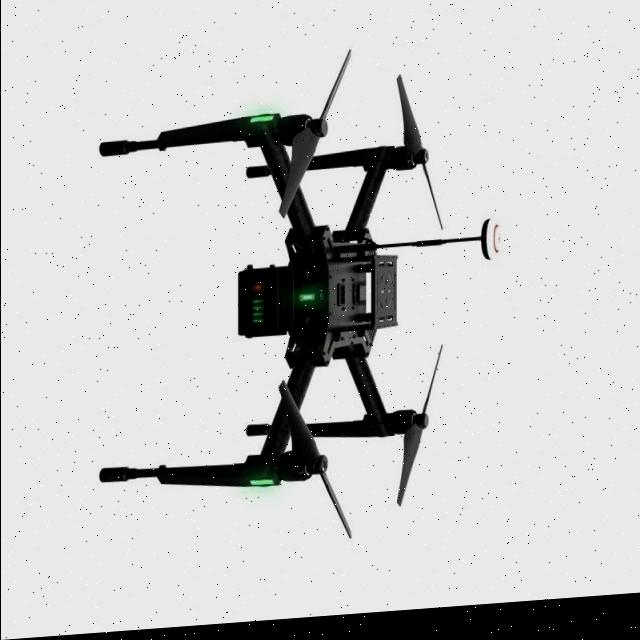drone: (178, 17, 478, 563)
